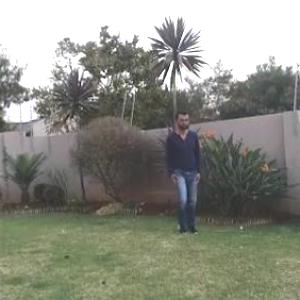follow: (165, 106, 204, 238)
